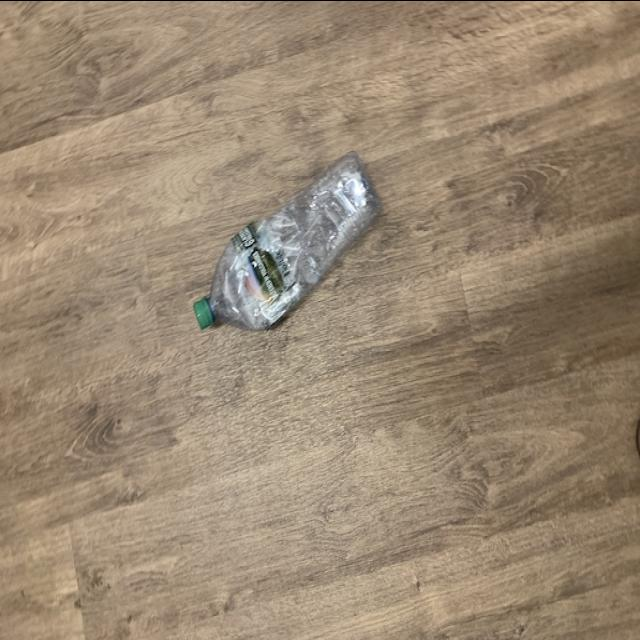litter: (193, 149, 381, 341)
